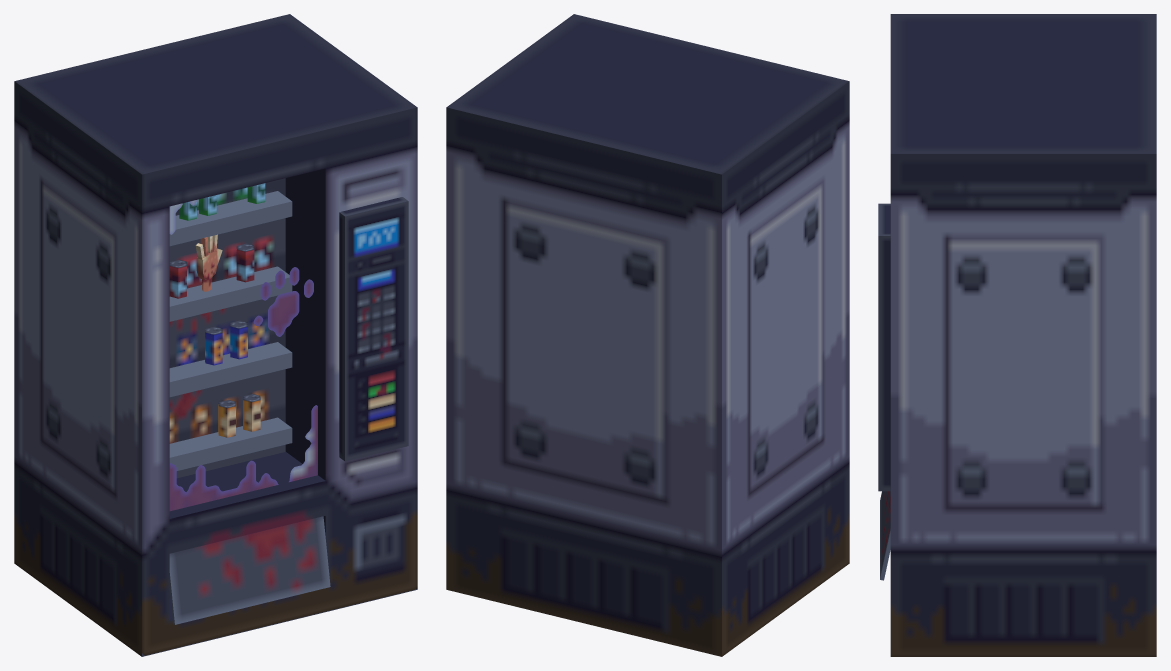
File: Vending_Machine_with_Decapitated_Hand_Model.fbx
3 renders of one model, left to right at view 1: azimuth 30°, elevation 25°; view 2: azimuth 150°, elevation 25°; view 3: azimuth 270°, elevation 25°, orthographic. The views are drawn at different scales.
Visible parts, largest first — view 1: GEO_Vending_Machine; view 2: GEO_Vending_Machine; view 3: GEO_Vending_Machine.
Part boxes in pixels (x1,y1,x2,y2): GEO_Vending_Machine: (14,14,417,656); GEO_Vending_Machine: (446,14,849,656); GEO_Vending_Machine: (878,14,1156,656).
Size of the model in its own units: 6.42 by 10.74 by 5.39.
1 material, 1 textured.
